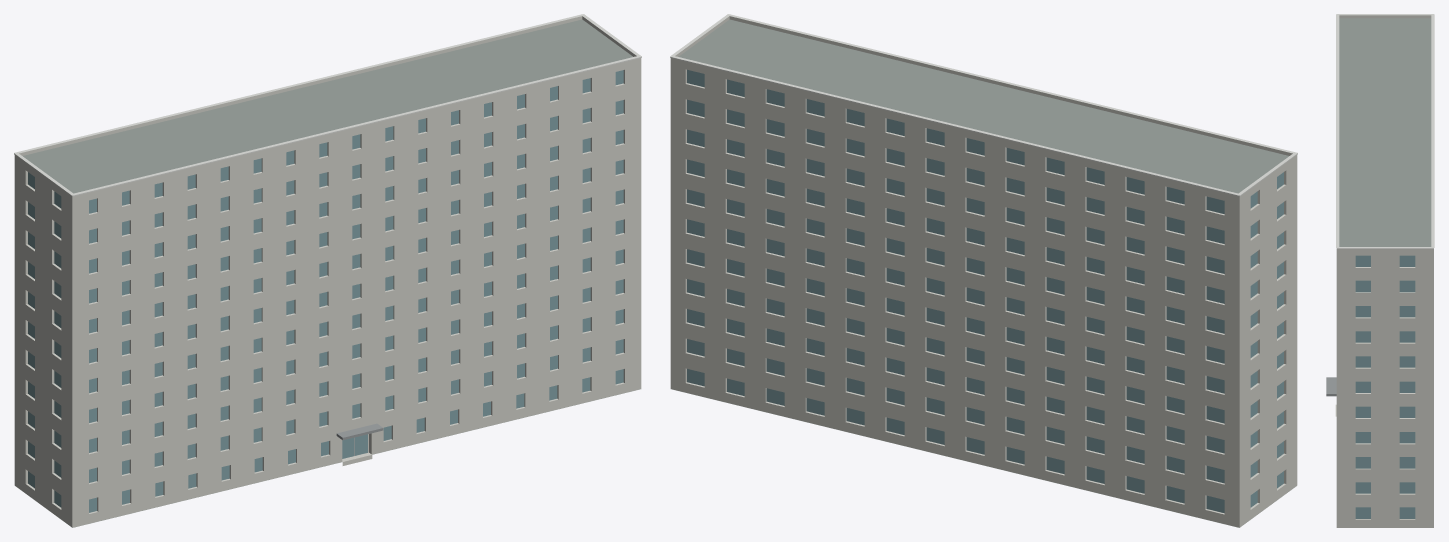
3 renders of one model, left to right at view 1: azimuth 30°, elevation 25°; view 2: azimuth 150°, elevation 25°; view 3: azimuth 270°, elevation 25°, orthographic. The views are drawn at different scales.
Visible parts, largest first — view 1: osm268374973__wall, osm268374973__roof, osm268374973__glass, osm268374973__parapet, osm268374973__trim; view 2: osm268374973__wall, osm268374973__glass, osm268374973__roof, osm268374973__parapet, osm268374973__trim; view 3: osm268374973__wall, osm268374973__roof, osm268374973__glass, osm268374973__trim, osm268374973__parapet, osm268374973__canopy.
Part boxes in pixels (x1=…): osm268374973__wall: x1=14, y1=60, x2=641, y2=527; osm268374973__roof: x1=15, y1=19, x2=639, y2=527; osm268374973__glass: x1=28, y1=70, x2=623, y2=512; osm268374973__parapet: x1=14, y1=16, x2=641, y2=198; osm268374973__trim: x1=14, y1=14, x2=641, y2=196; osm268374973__wall: x1=670, y1=60, x2=1297, y2=527; osm268374973__glass: x1=687, y1=69, x2=1283, y2=513; osm268374973__roof: x1=672, y1=19, x2=1296, y2=527; osm268374973__parapet: x1=670, y1=16, x2=1297, y2=198; osm268374973__trim: x1=670, y1=14, x2=1297, y2=196; osm268374973__wall: x1=1336, y1=251, x2=1433, y2=527; osm268374973__roof: x1=1339, y1=18, x2=1431, y2=246; osm268374973__glass: x1=1355, y1=255, x2=1415, y2=518; osm268374973__trim: x1=1336, y1=14, x2=1434, y2=248; osm268374973__parapet: x1=1336, y1=15, x2=1433, y2=250; osm268374973__canopy: x1=1326, y1=377, x2=1336, y2=396.
Size of the model in its own units: 61.84 by 34.85 by 12.09.
